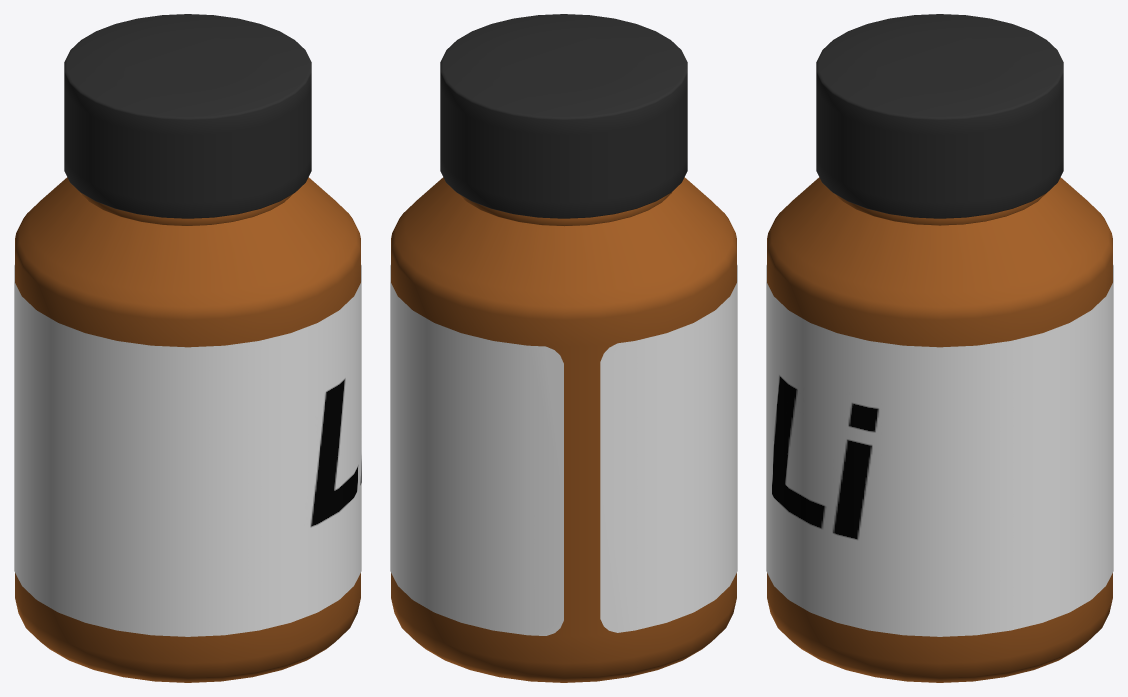
File: bottleForMetalls.fbx
3 views of the same model, side by side, from view 1: azimuth 30°, elevation 25°; view 2: azimuth 150°, elevation 25°; view 3: azimuth 270°, elevation 25° (orthographic).
Parts seen in each view (by area): view 1: oil_bottle_001, oil_bottle_001.001; view 2: oil_bottle_001, oil_bottle_001.001; view 3: oil_bottle_001, oil_bottle_001.001.
Boxes of the visible parts, <box> form: oil_bottle_001: <box>14,177,361,682</box>; oil_bottle_001.001: <box>64,14,311,218</box>; oil_bottle_001: <box>390,177,737,682</box>; oil_bottle_001.001: <box>440,14,687,218</box>; oil_bottle_001: <box>766,177,1113,682</box>; oil_bottle_001.001: <box>816,14,1063,218</box>.
Bounding box in the file's own units: 5020 × 8800 × 4993.
Materials: 3 (1 with a texture image).
